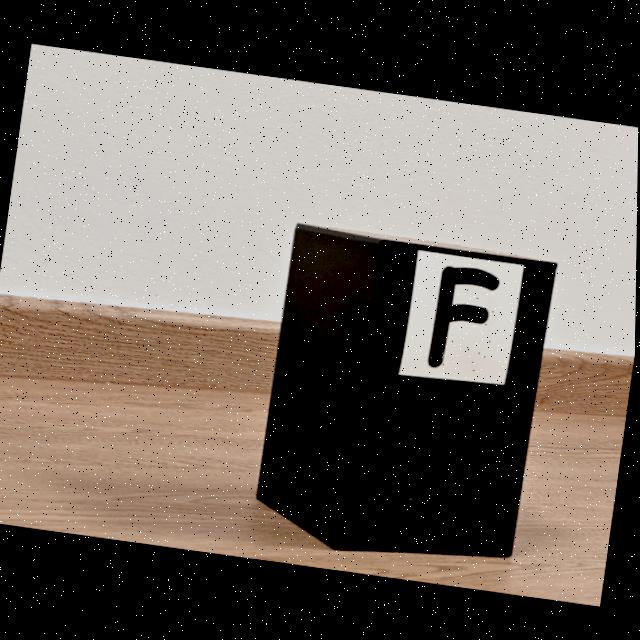F: (429, 265, 500, 365)
